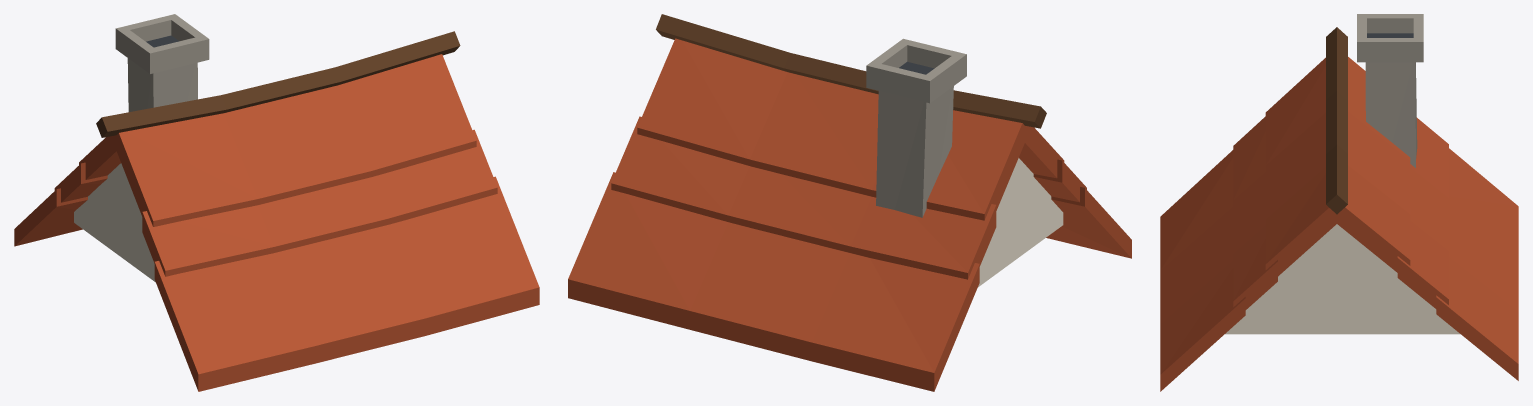
Rendered from house_roof_a.glb.
3 views of the same model, side by side, from view 1: azimuth 30°, elevation 25°; view 2: azimuth 150°, elevation 25°; view 3: azimuth 270°, elevation 25° (orthographic). The views are drawn at different scales.
Visible parts, largest first — view 1: house_roof_a; view 2: house_roof_a; view 3: house_roof_a.
Boxes of the visible parts, x1,y1,x2,y2 form: house_roof_a: [14, 14, 539, 391]; house_roof_a: [568, 14, 1131, 391]; house_roof_a: [1160, 14, 1518, 391].
Size of the model in its own units: 0.714 by 0.4867 by 0.645.
